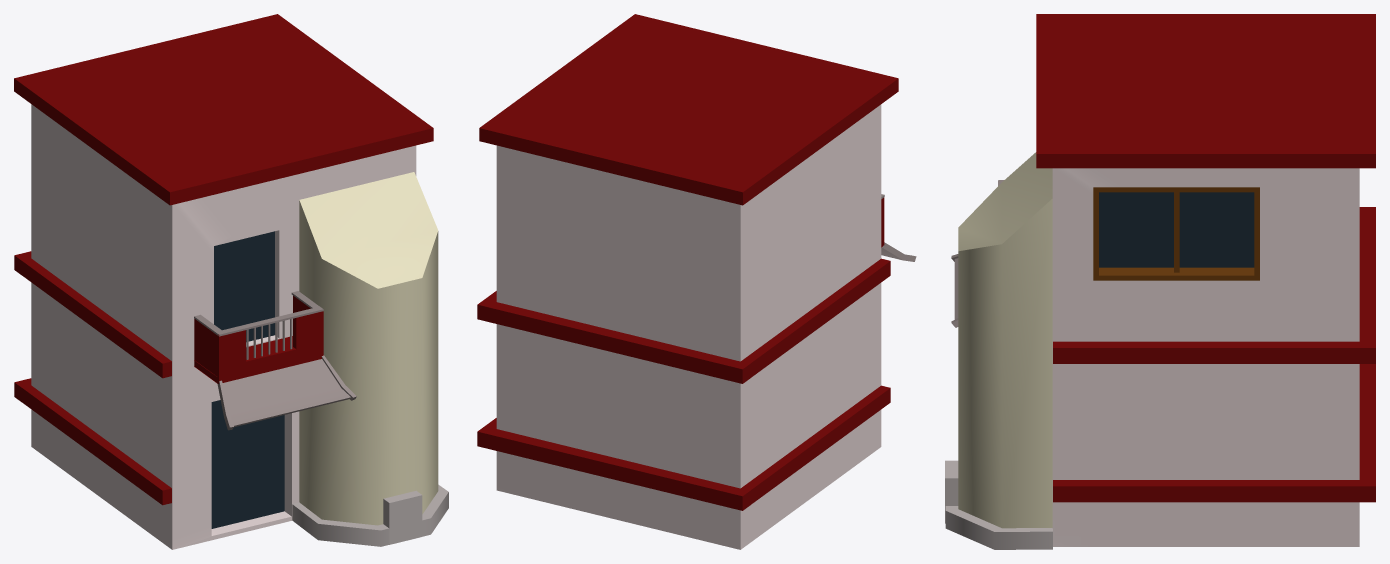
The model's file is CountryHouse04.fbx.
3 renders of one model, left to right at view 1: azimuth 30°, elevation 25°; view 2: azimuth 150°, elevation 25°; view 3: azimuth 270°, elevation 25°, orthographic. The views are drawn at different scales.
Parts seen in each view (by area): view 1: CountryHouse03; view 2: CountryHouse03; view 3: CountryHouse03.
Boxes of the visible parts, x1,y1,x2,y2 form: CountryHouse03: (14,14,448,549); CountryHouse03: (477,14,916,549); CountryHouse03: (945,14,1375,549).
Bounding box in the file's own units: 65.28 × 84.21 × 85.87.
